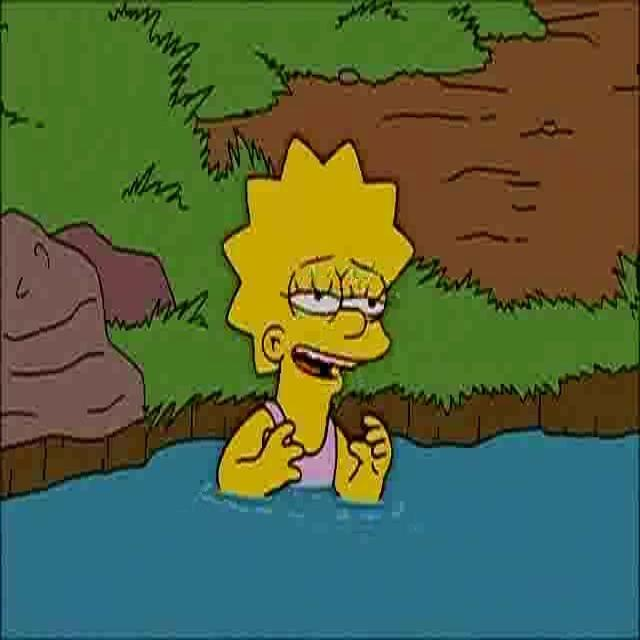Lisa Simpson: (218, 133, 414, 411)
